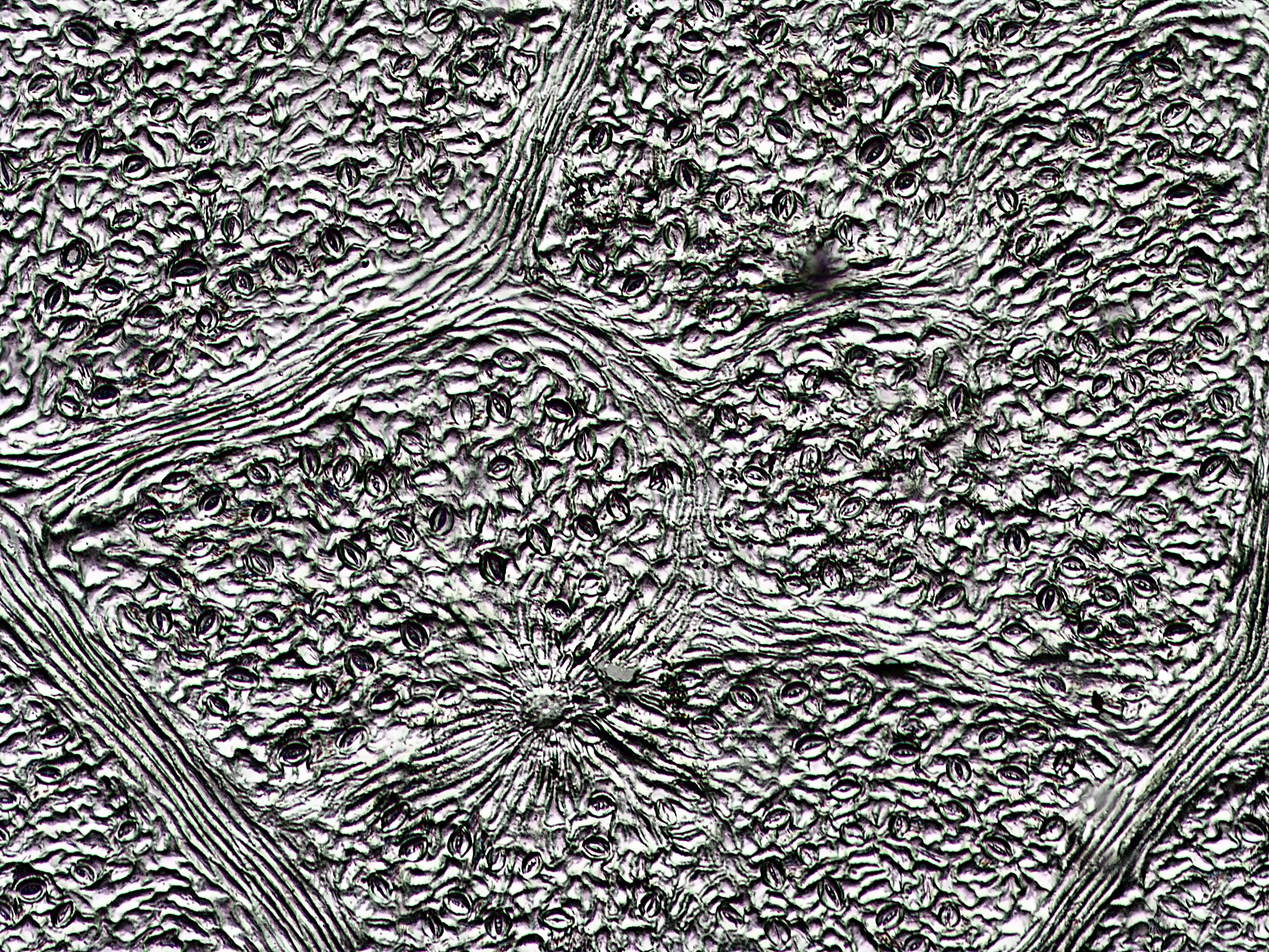stomata: (857, 134, 892, 168), (672, 159, 704, 192), (399, 619, 429, 652), (13, 874, 47, 903), (817, 876, 845, 911), (63, 21, 99, 48), (479, 549, 506, 585), (338, 538, 367, 571), (398, 127, 425, 162), (343, 648, 374, 678), (76, 128, 101, 165), (170, 260, 207, 285), (796, 734, 830, 761), (338, 726, 368, 756), (525, 521, 553, 553), (1038, 585, 1066, 617), (1199, 454, 1231, 482), (149, 565, 182, 592), (867, 4, 894, 37), (196, 608, 222, 642), (1058, 251, 1092, 277), (934, 584, 966, 611), (1032, 354, 1059, 386), (61, 239, 87, 272), (332, 455, 357, 489), (387, 519, 416, 548), (581, 834, 611, 862), (382, 802, 409, 833), (367, 871, 394, 902), (946, 384, 968, 422), (487, 392, 513, 424), (1193, 324, 1225, 350), (276, 740, 309, 765), (363, 466, 388, 499), (760, 857, 785, 890), (221, 667, 258, 689), (665, 119, 693, 148), (676, 65, 704, 94), (27, 73, 57, 100), (146, 605, 173, 635), (485, 908, 512, 938), (758, 20, 788, 47), (585, 794, 617, 819), (450, 395, 474, 428), (605, 489, 629, 522), (888, 742, 921, 766), (1157, 894, 1190, 918), (1165, 184, 1198, 208), (771, 188, 795, 221), (1071, 329, 1099, 357), (765, 918, 792, 947), (630, 185, 659, 212), (132, 509, 166, 532), (902, 121, 932, 147), (1069, 120, 1099, 146), (678, 265, 708, 291), (1126, 573, 1157, 598), (664, 221, 689, 252), (299, 443, 321, 478), (539, 908, 574, 930), (980, 836, 1012, 860), (1004, 525, 1028, 557), (430, 503, 453, 536), (689, 717, 722, 740), (831, 215, 854, 248), (93, 320, 121, 347), (130, 307, 166, 328), (926, 69, 954, 96), (946, 756, 972, 785), (1115, 435, 1144, 461), (148, 96, 178, 121), (780, 682, 810, 707), (820, 560, 845, 590), (575, 426, 597, 460), (1160, 102, 1191, 126), (190, 171, 222, 194), (270, 249, 296, 277), (55, 395, 83, 421), (199, 490, 227, 516), (891, 170, 919, 196), (829, 778, 862, 800), (740, 466, 773, 488), (336, 159, 361, 188), (572, 515, 601, 540), (1239, 820, 1269, 844), (590, 123, 614, 153), (448, 826, 471, 857), (997, 765, 1029, 787), (678, 30, 710, 52), (148, 349, 174, 376), (1040, 672, 1067, 698), (890, 555, 917, 581), (1120, 367, 1146, 394), (994, 186, 1020, 213), (220, 213, 245, 241), (246, 548, 274, 573), (876, 903, 904, 928), (1040, 815, 1065, 843), (1146, 349, 1174, 374), (1068, 295, 1096, 320), (820, 89, 848, 114), (121, 155, 150, 179), (399, 837, 428, 861), (399, 429, 428, 453), (1114, 217, 1147, 238), (1177, 264, 1210, 285), (45, 282, 68, 312), (321, 228, 344, 258), (787, 488, 817, 511), (919, 442, 942, 472), (974, 426, 1000, 452), (652, 797, 676, 825), (292, 641, 321, 664), (799, 444, 821, 474), (753, 384, 783, 406), (1119, 534, 1152, 554), (544, 398, 575, 419), (573, 716, 599, 741), (637, 892, 662, 918), (714, 184, 739, 210), (766, 118, 792, 143), (427, 8, 454, 32), (371, 689, 399, 712), (487, 456, 515, 479), (729, 685, 757, 708), (453, 63, 482, 85), (421, 910, 443, 939), (1000, 623, 1029, 645), (836, 496, 865, 518), (492, 347, 522, 368), (939, 801, 969, 822), (781, 575, 811, 596), (1091, 584, 1121, 605), (1112, 316, 1133, 346), (925, 191, 946, 221), (161, 471, 194, 490), (206, 692, 231, 717), (1210, 391, 1235, 416), (714, 121, 739, 146), (245, 462, 271, 486), (1091, 372, 1115, 398), (764, 808, 791, 831), (938, 901, 961, 928), (623, 273, 650, 296), (1116, 78, 1143, 101), (1153, 57, 1180, 80), (1189, 133, 1216, 156), (470, 28, 501, 48), (110, 209, 138, 231), (40, 725, 68, 747), (259, 28, 284, 52), (578, 573, 603, 597), (835, 437, 860, 461), (1147, 142, 1172, 166), (188, 130, 214, 153), (59, 317, 85, 340), (850, 681, 873, 707), (196, 306, 218, 333), (53, 900, 75, 927), (521, 852, 543, 879), (971, 17, 992, 45), (94, 279, 123, 299), (945, 473, 974, 493), (432, 163, 456, 187), (1163, 624, 1195, 642), (394, 54, 419, 77), (251, 503, 276, 526), (713, 403, 738, 426), (1001, 21, 1026, 44), (69, 81, 95, 103), (92, 384, 118, 406), (543, 600, 569, 622), (839, 823, 865, 845), (1060, 556, 1086, 578), (578, 251, 604, 273), (443, 893, 470, 914), (233, 267, 253, 295), (251, 611, 279, 631), (34, 765, 63, 784), (100, 59, 125, 81), (426, 88, 451, 110), (889, 814, 911, 839), (245, 103, 271, 124), (888, 506, 914, 527), (185, 537, 213, 556), (709, 302, 737, 321), (116, 818, 138, 842), (1142, 503, 1166, 525), (1110, 614, 1134, 636), (386, 220, 411, 241), (71, 862, 96, 883), (979, 728, 1005, 748), (486, 845, 505, 872), (1016, 233, 1038, 256), (1054, 752, 1075, 776), (436, 687, 462, 706), (1161, 410, 1188, 428), (1078, 618, 1100, 640), (798, 843, 818, 867), (1145, 243, 1167, 264), (1036, 169, 1059, 189), (378, 591, 402, 610), (1216, 921, 1241, 939), (312, 677, 332, 698), (862, 740, 886, 757), (848, 55, 871, 72), (820, 665, 843, 681)
